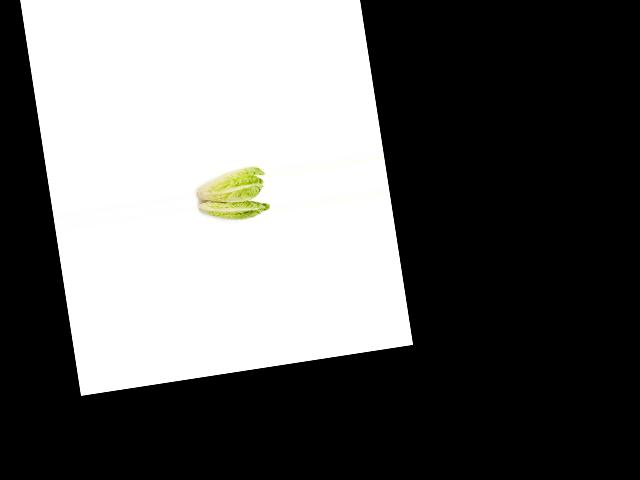lettuce: (193, 190, 272, 233)
